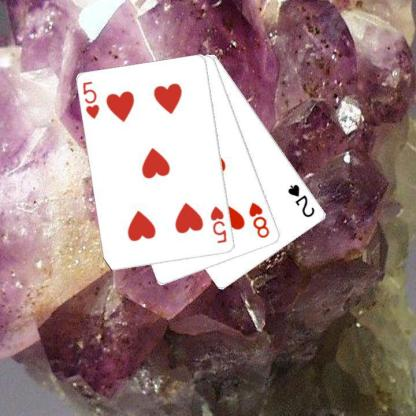2S: (286, 181, 316, 219)
5H: (80, 78, 101, 121), (208, 204, 228, 245)
8H: (246, 199, 271, 240)
